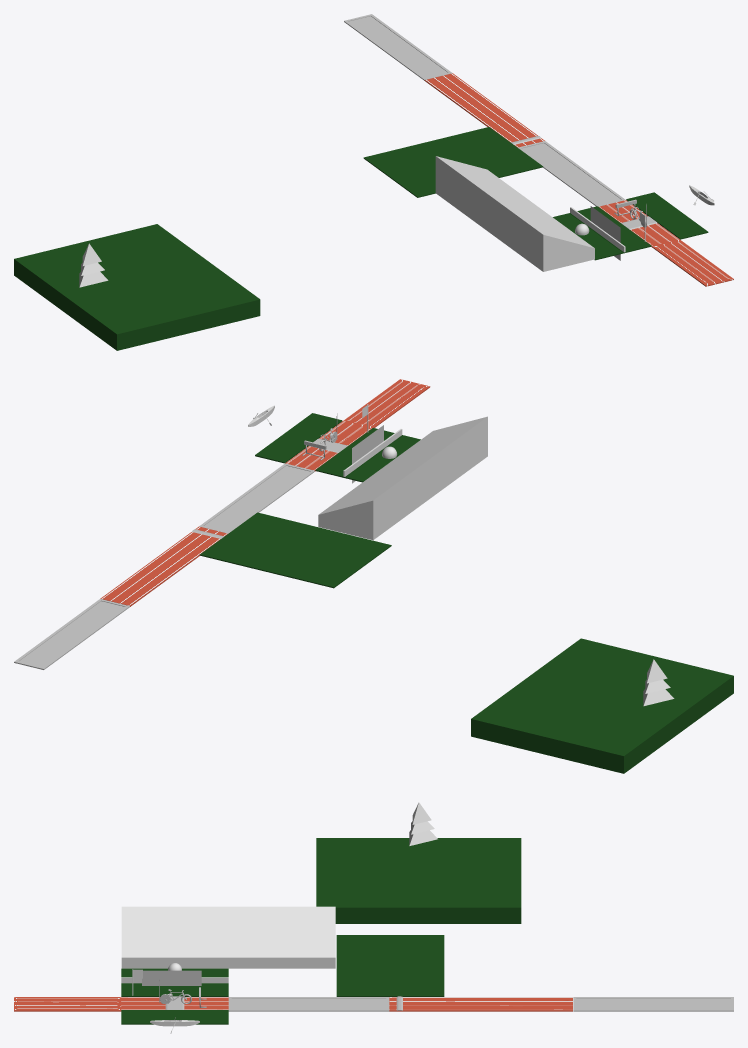
File: cycle.fbx
The picture shows the model from 3 angles, top to bottom: view 1: azimuth 30°, elevation 25°; view 2: azimuth 150°, elevation 25°; view 3: azimuth 270°, elevation 25°; orthographic projection. The views are drawn at different scales.
Parts seen in each view (by area): view 1: Cube.003, Cube.002, Pitch.010, Pitch.007, Pitch.008, Pitch.005, Pitch.006, Pitch.001, Pitch, Pitch.003, Pitch.002, Cone; view 2: Cube.003, Cube.002, Pitch.010, Pitch.007, Pitch.008, Pitch.005, Pitch.001, Pitch.006, Pitch, Pitch.003, Pitch.002, Cone; view 3: Cube.003, Cube.002, Pitch.010, Pitch.007, Pitch.005, Pitch.008, Pitch.006, Pitch.001, Pitch.002, Pitch, frame_00, Cone (+1 smaller).
Boxes of the visible parts, x1,y1,x2,y2 form: Cube.003: [14, 224, 260, 350]; Cube.002: [435, 156, 594, 271]; Pitch.010: [363, 127, 543, 197]; Pitch.007: [424, 73, 544, 147]; Pitch.008: [344, 14, 452, 80]; Pitch.005: [518, 141, 625, 206]; Pitch.006: [652, 239, 733, 286]; Pitch.001: [626, 192, 708, 239]; Pitch: [599, 200, 679, 246]; Pitch.003: [553, 213, 623, 260]; Pitch.002: [569, 206, 651, 253]; Cone: [79, 243, 108, 287]; Cube.003: [471, 638, 733, 773]; Cube.002: [318, 416, 487, 540]; Pitch.010: [199, 512, 391, 588]; Pitch.007: [100, 526, 227, 606]; Pitch.008: [14, 599, 129, 669]; Pitch.005: [199, 463, 314, 533]; Pitch.001: [255, 413, 342, 463]; Pitch.006: [343, 379, 430, 428]; Pitch: [285, 421, 371, 471]; Pitch.003: [345, 435, 420, 482]; Pitch.002: [315, 428, 402, 478]; Cone: [643, 659, 674, 706]; Cube.003: [316, 838, 521, 923]; Cube.002: [121, 906, 335, 968]; Pitch.010: [336, 935, 444, 996]; Pitch.007: [389, 997, 572, 1011]; Pitch.005: [228, 997, 389, 1011]; Pitch.008: [573, 997, 733, 1011]; Pitch.006: [14, 997, 121, 1011]; Pitch.001: [121, 1010, 228, 1024]; Pitch.002: [121, 983, 228, 996]; Pitch: [121, 997, 228, 1009]; frame_00: [142, 970, 201, 985]; Cone: [409, 802, 437, 845].
Bounding box in the file's own units: 11205 × 2202 × 13409.
